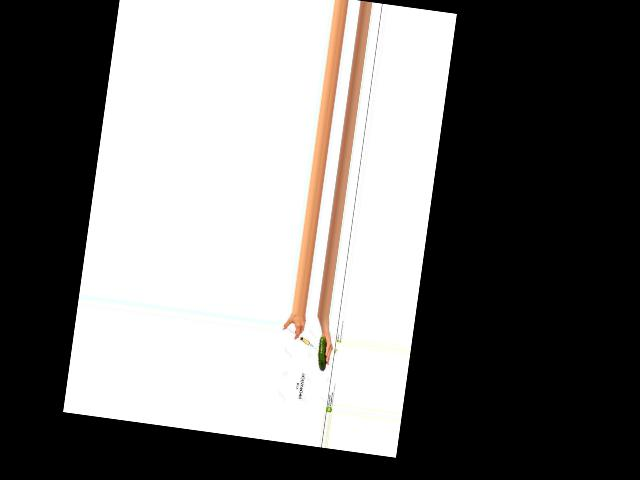cucumber: (316, 336, 329, 371)
